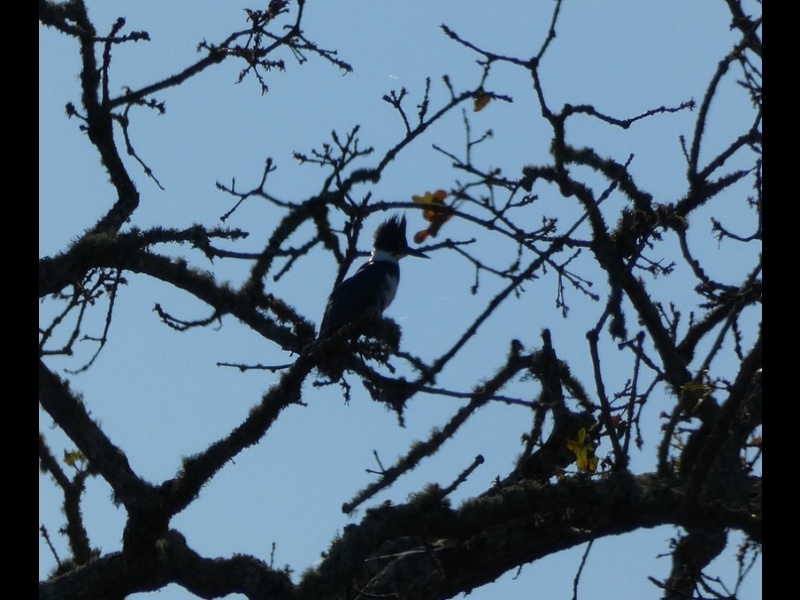kingfisher: (331, 212, 429, 334)
